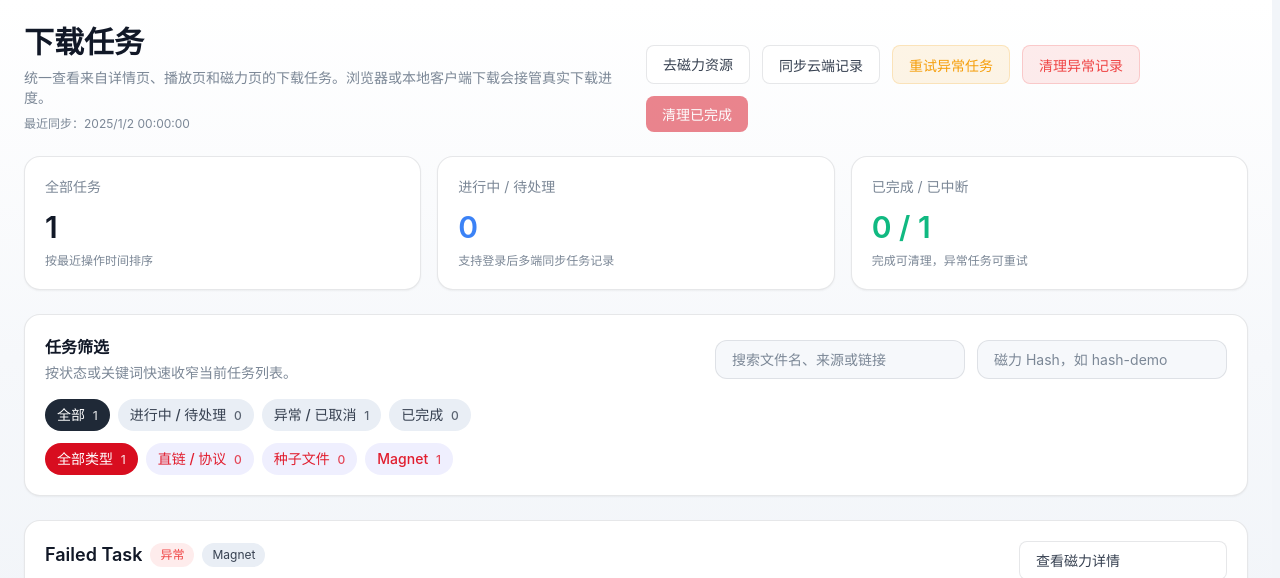
Test: DownloadsView › retries and clears failed tasks with visible feedback
Click the button "重试异常任务".
click(951, 64)  # box [892,45,1010,84]
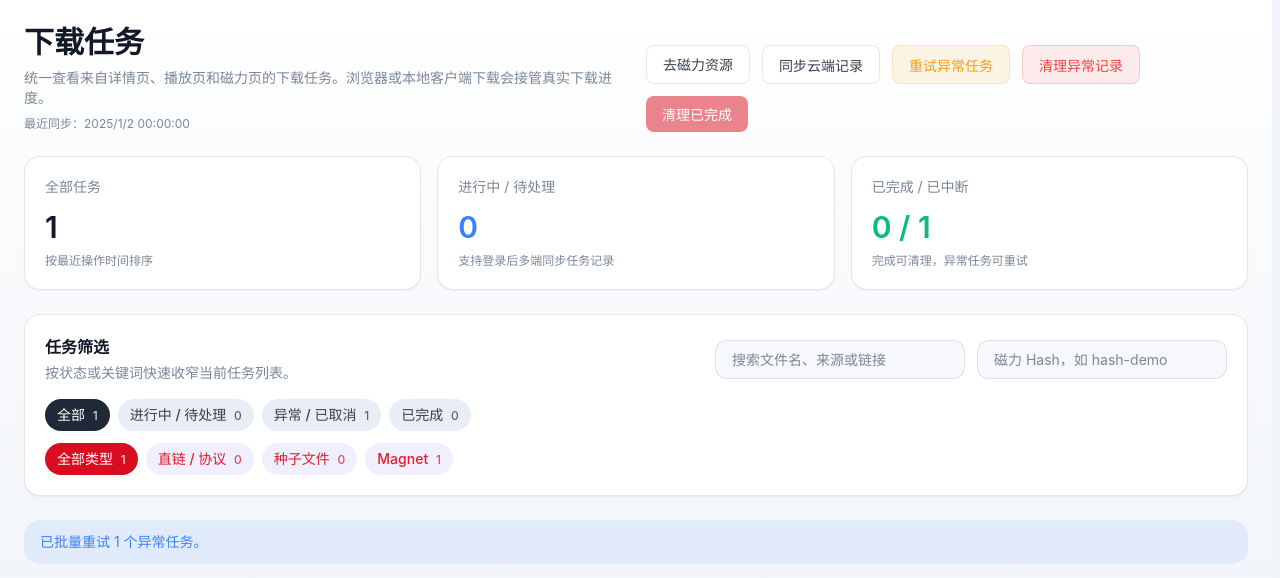
Expected: the text "已批量重试 1 个异常任务" is shown, [40,533,208,550]
Click the button "清理异常记录".
click(1081, 64)  # box [1022,45,1140,84]
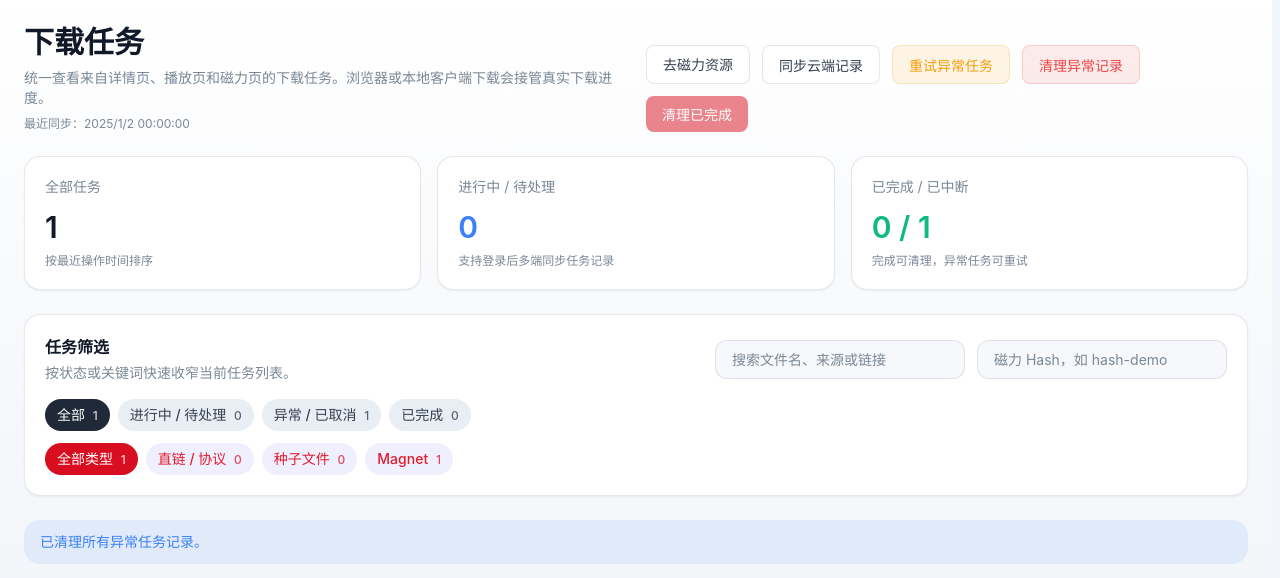
Expected: the text "已清理所有异常任务记录" is shown, [40,533,208,550]
